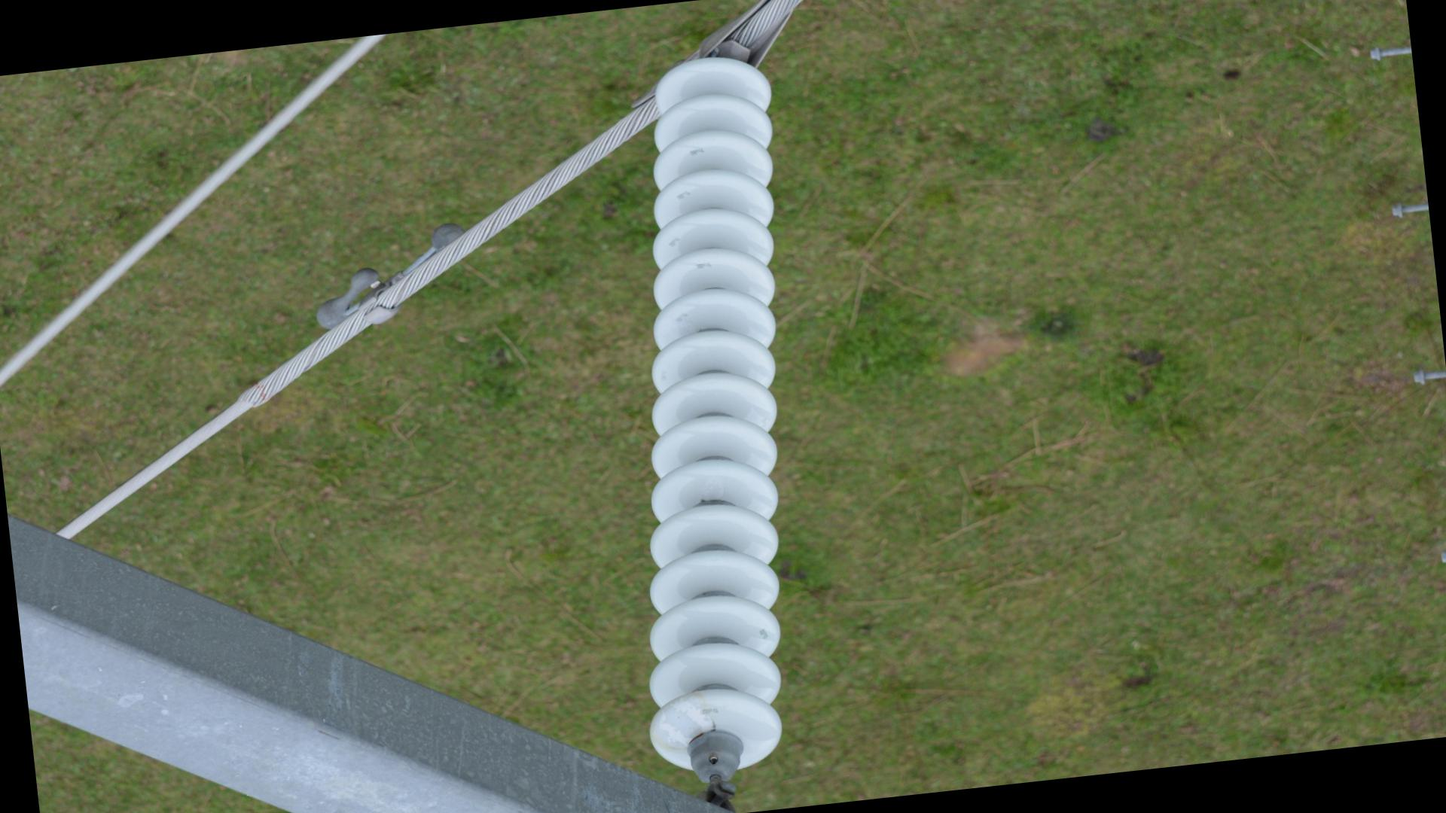damper: (302, 215, 480, 336)
